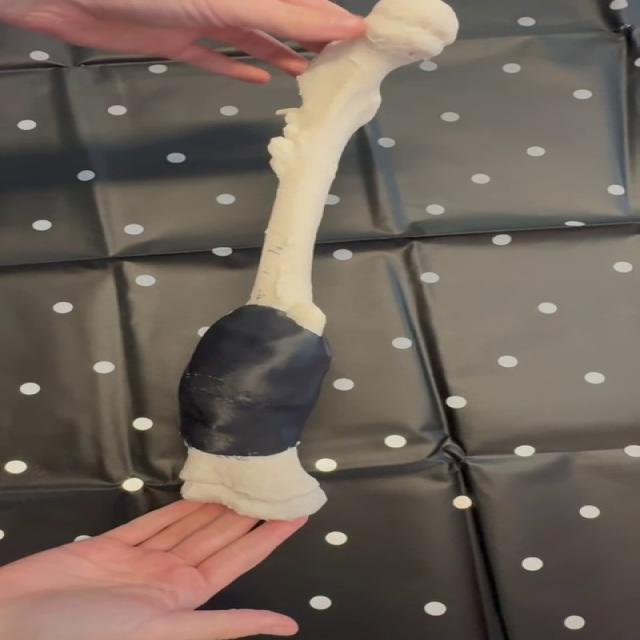bones: (179, 0, 458, 519)
